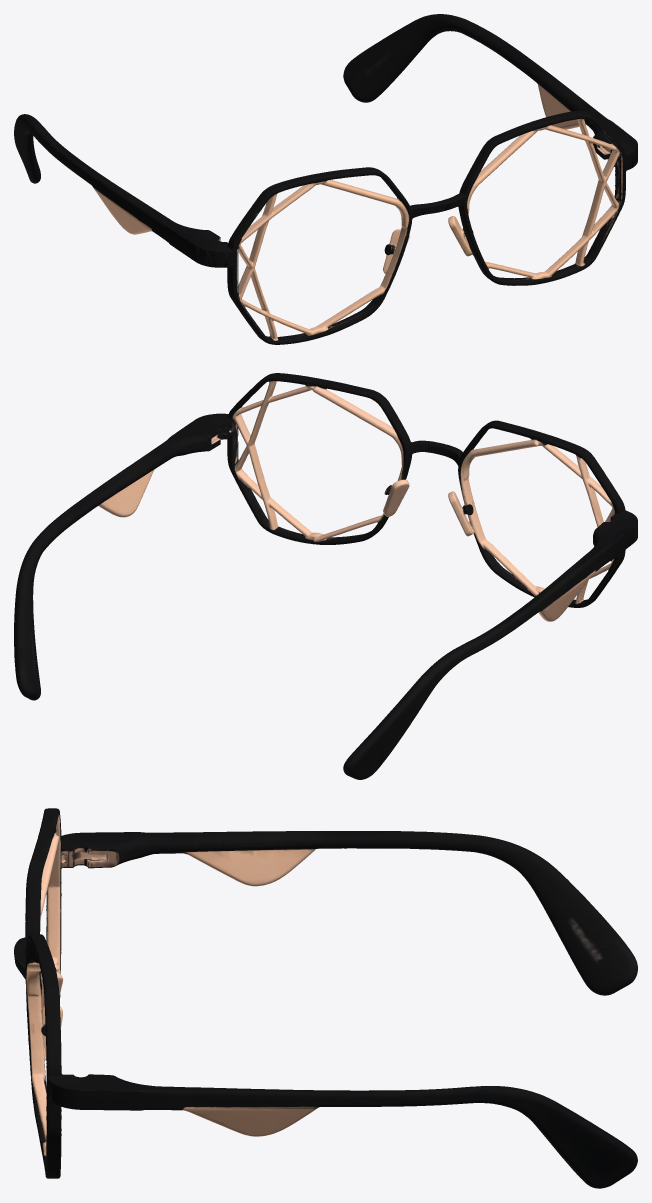
File: Structure.glb
The picture shows the model from 3 angles, top to bottom: view 1: azimuth 30°, elevation 25°; view 2: azimuth 150°, elevation 25°; view 3: azimuth 270°, elevation 25°; orthographic projection. The views are drawn at different scales.
Size of the model in its own units: 1.9 by 0.6548 by 1.89.
1 material, 1 textured.
